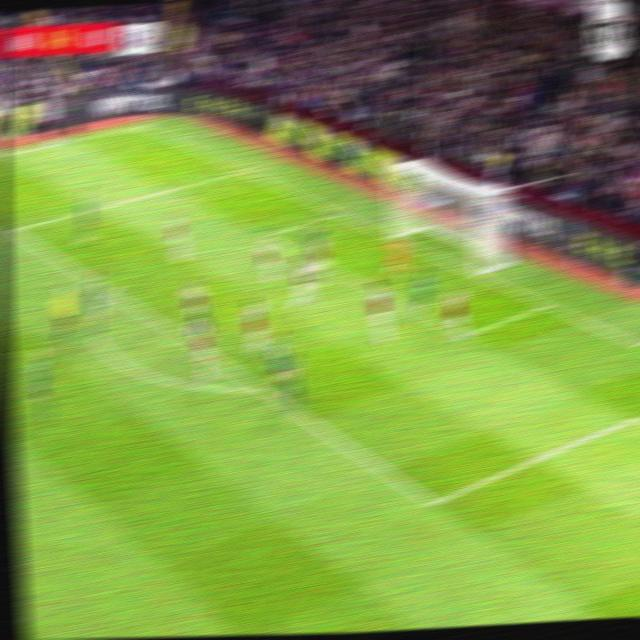bigarea_bottom_inner: (416, 483, 447, 517)
bigarea_top_inner: (1, 218, 23, 238)
bigarea_top_outter: (231, 162, 253, 177)
bottom_arc_area_intersection: (248, 377, 271, 397)
corner: (127, 117, 154, 132)
smallarea_bottom_outter: (532, 293, 558, 315)
smallarea_top_inner: (254, 225, 278, 242)
smallarea_top_outter: (326, 203, 349, 220)
top_arc_area_intersection: (99, 283, 122, 302)
